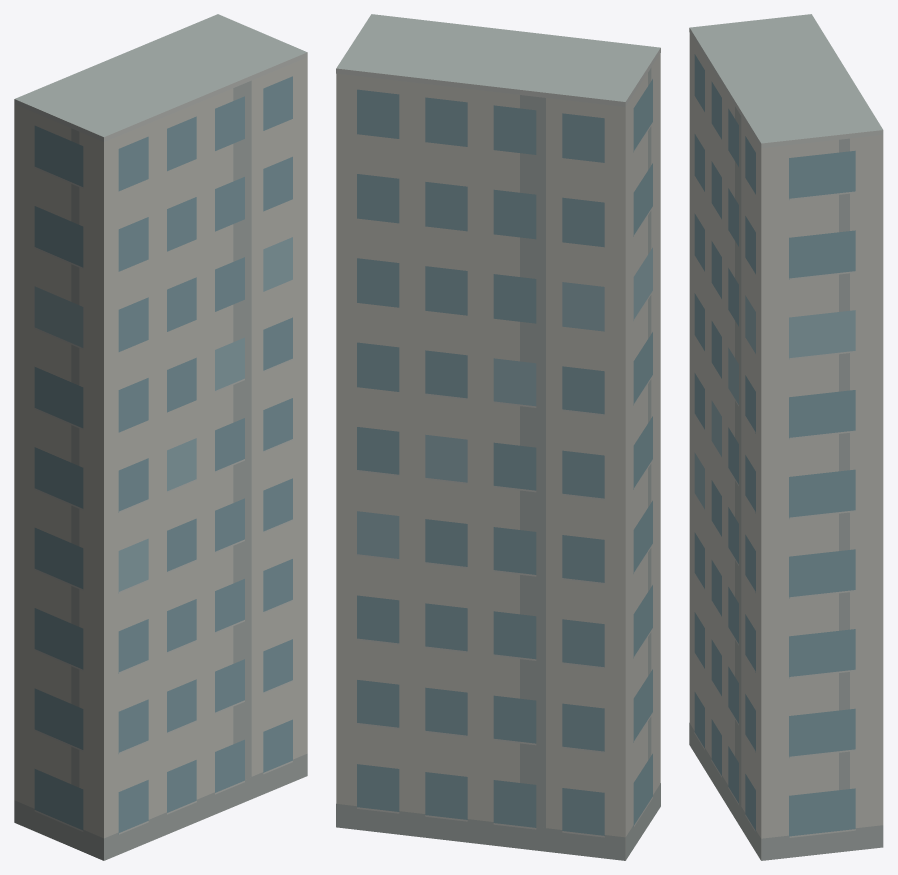
File: residential-f56daf37-6935-40b1-8a60-0a57f6dea521.glb
The picture shows the model from 3 angles, left to right: view 1: azimuth 30°, elevation 25°; view 2: azimuth 150°, elevation 25°; view 3: azimuth 270°, elevation 25°; orthographic projection. The views are drawn at different scales.
Parts seen in each view (by area): view 1: residential-f56daf37-6935-40b1-8a60-0a57f6dea521.tmp; view 2: residential-f56daf37-6935-40b1-8a60-0a57f6dea521.tmp; view 3: residential-f56daf37-6935-40b1-8a60-0a57f6dea521.tmp.
Part boxes in pixels (x1,y1,x2,y2): residential-f56daf37-6935-40b1-8a60-0a57f6dea521.tmp: [14, 14, 307, 860]; residential-f56daf37-6935-40b1-8a60-0a57f6dea521.tmp: [336, 14, 660, 860]; residential-f56daf37-6935-40b1-8a60-0a57f6dea521.tmp: [689, 14, 883, 860].
Bounding box in the file's own units: 13.95 × 36 × 8.83.
